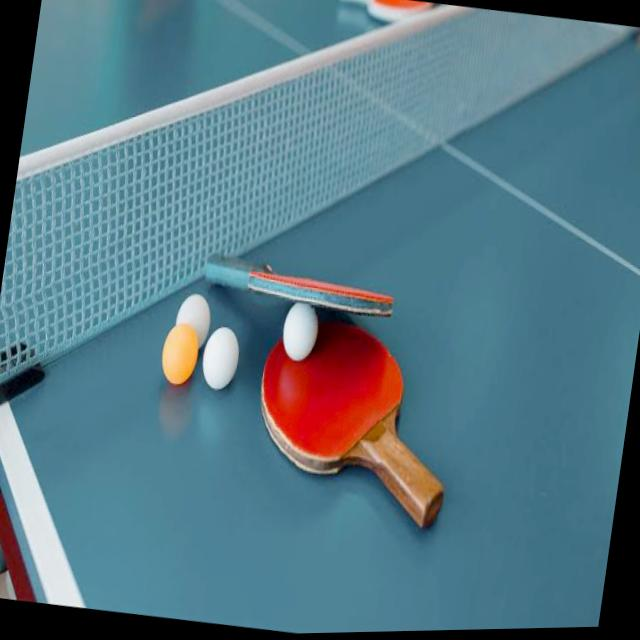TT Net: (0, 5, 640, 398)
TT Racket: (238, 283, 422, 515), (243, 250, 398, 329)
